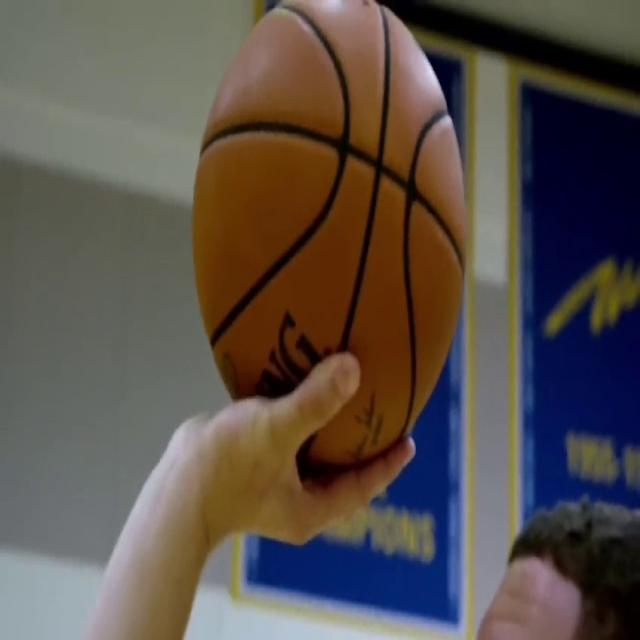ball: (191, 1, 469, 474)
